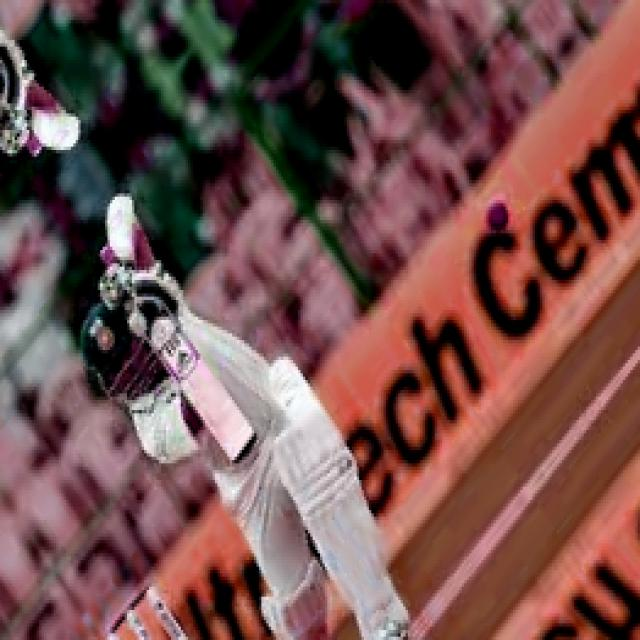bat: (144, 311, 255, 467)
